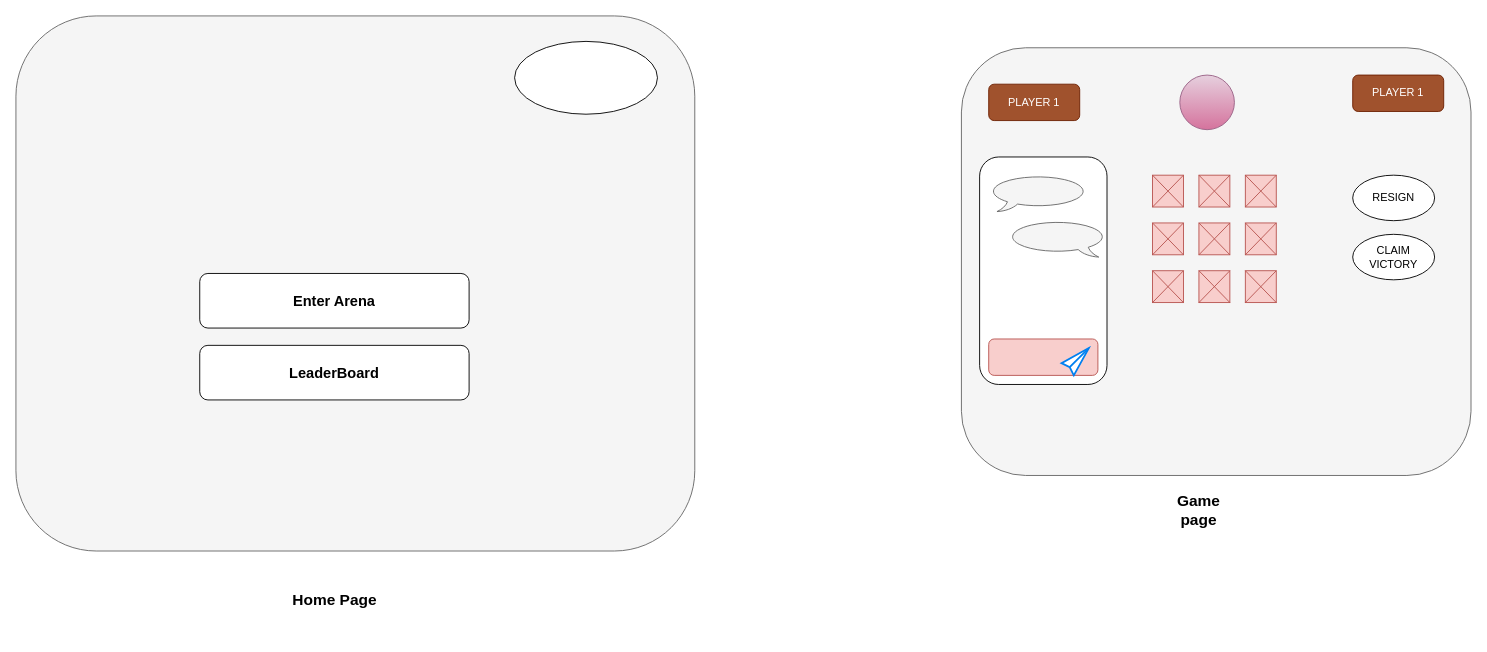
Some shapes in this 1487 by 652 pixel diagram are drawn without their labels. Each missing label, with the centre of its shape:
"Timer" goes at pixel 1206 102.
"Username" goes at pixel 585 77.
